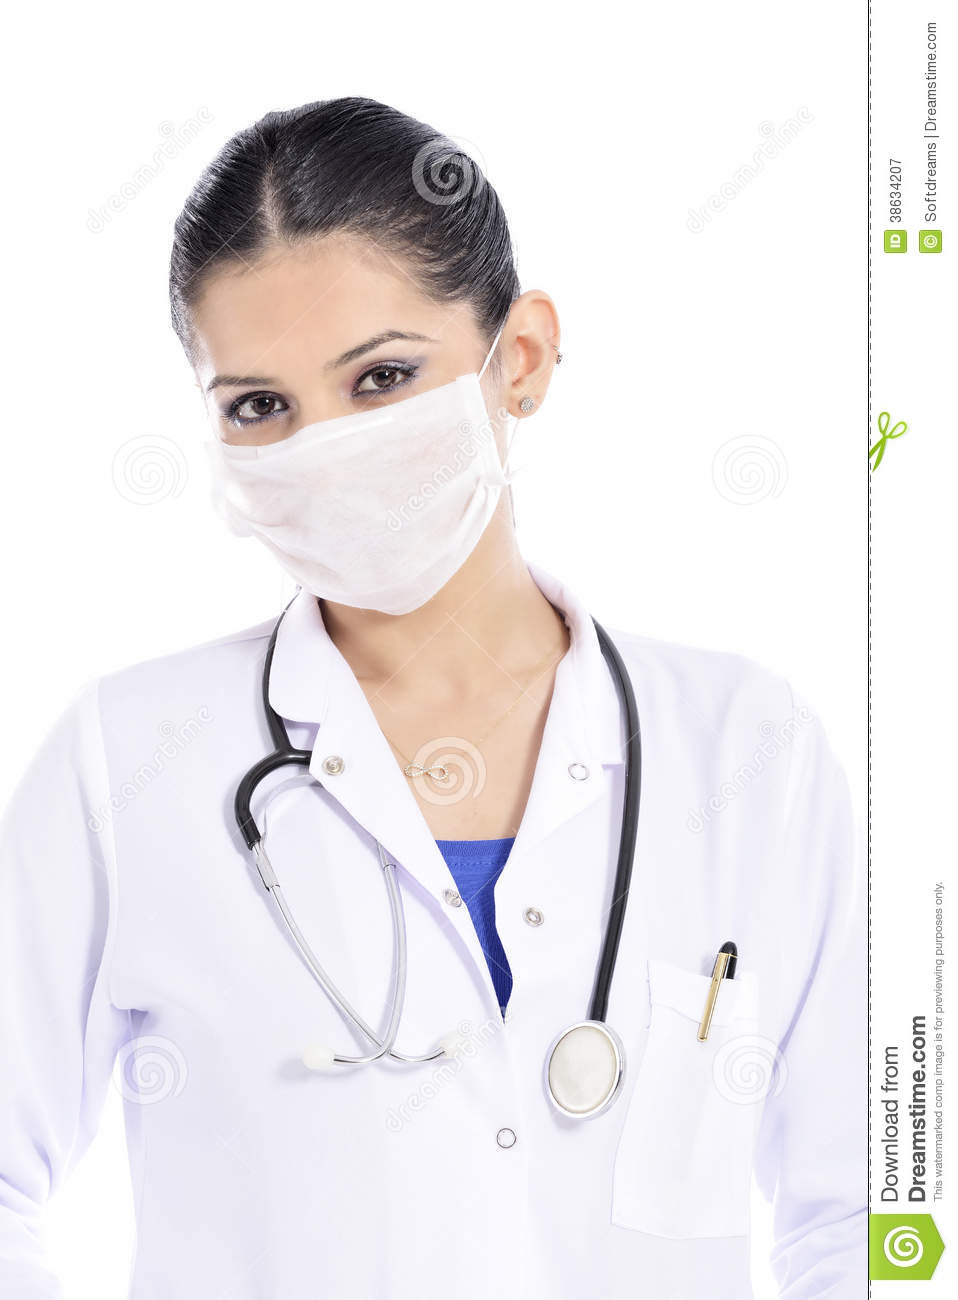mask: (203, 401, 555, 643)
